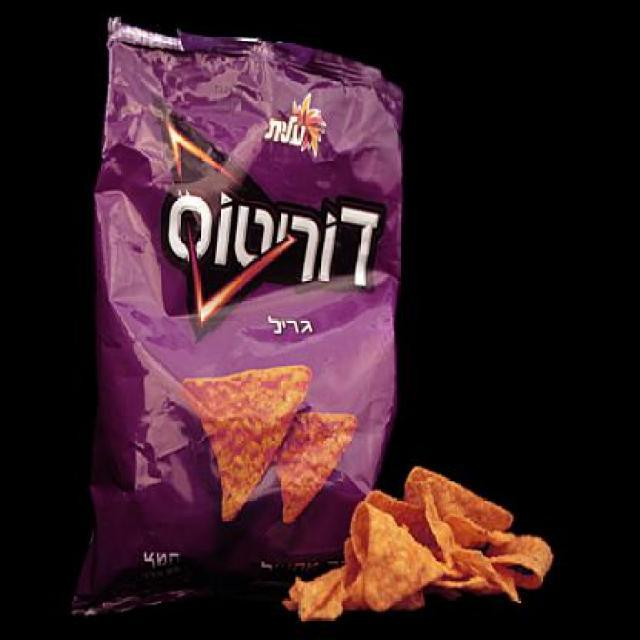Chips: (80, 12, 394, 608)
Chips packaged: (315, 438, 560, 631)
